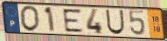1: (44, 6, 56, 33)
4: (85, 9, 105, 36)
5: (128, 9, 147, 38)
E: (61, 8, 85, 33)
O: (18, 5, 41, 33)
U: (105, 9, 126, 36)
